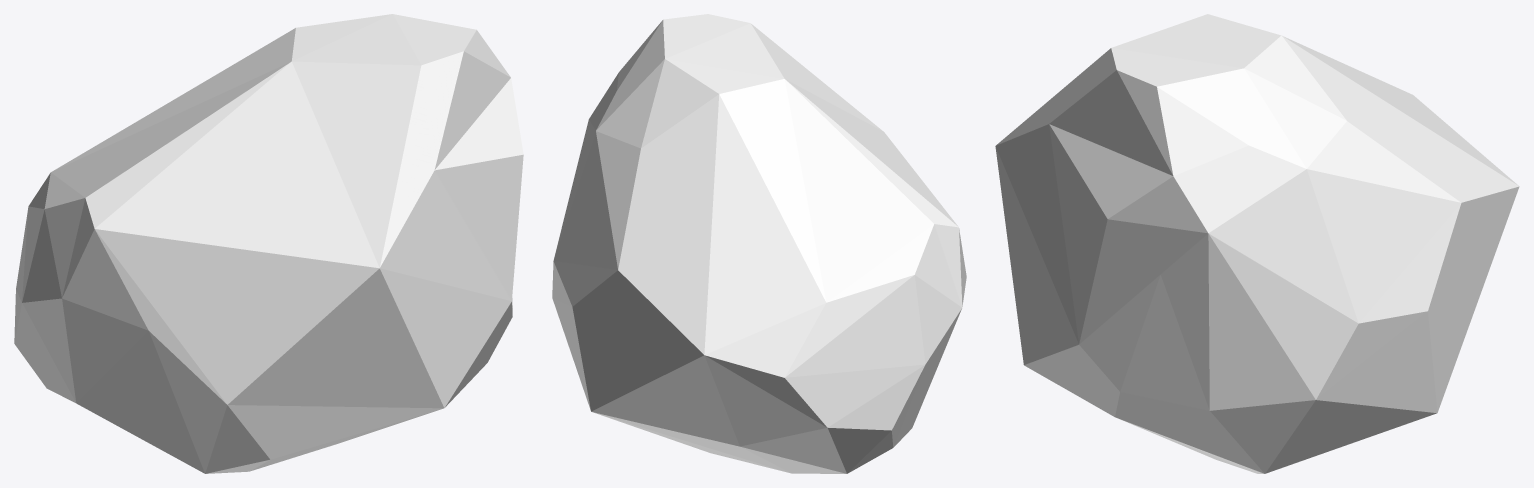
The model's file is Env_Rock_01.glb.
3 views of the same model, side by side, from view 1: azimuth 30°, elevation 25°; view 2: azimuth 150°, elevation 25°; view 3: azimuth 270°, elevation 25° (orthographic). The views are drawn at different scales.
Visible parts, largest first — view 1: Env_Rock_01; view 2: Env_Rock_01; view 3: Env_Rock_01.
Part boxes in pixels (<box>): Env_Rock_01: <box>14,14,523,473</box>; Env_Rock_01: <box>552,14,966,473</box>; Env_Rock_01: <box>995,14,1519,473</box>.
Size of the model in its own units: 1.25 by 1.13 by 1.23.
1 material, 1 textured.
